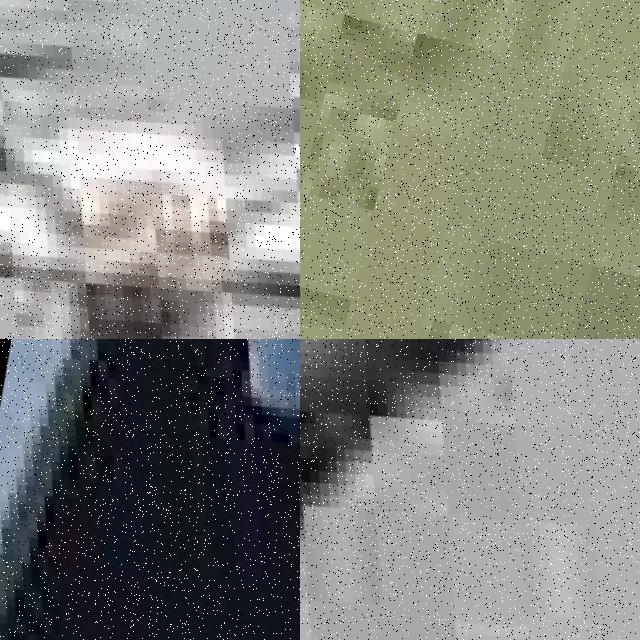0: (300, 339, 640, 640), (0, 0, 300, 339)
drone: (0, 339, 300, 640)
